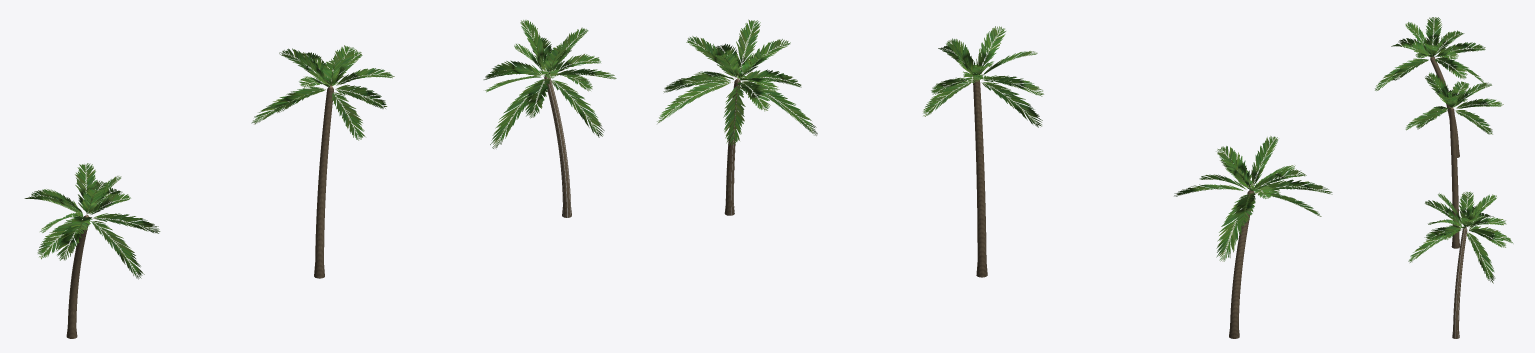
File: palm.gltf
3 views of the same model, side by side, from view 1: azimuth 30°, elevation 25°; view 2: azimuth 150°, elevation 25°; view 3: azimuth 270°, elevation 25° (orthographic). The views are drawn at different scales.
Visible parts, largest first — view 1: Palm3_LOD0, Palm2_LOD0, Palm1_LOD0; view 2: Palm3_LOD0, Palm1_LOD0, Palm2_LOD0; view 3: Palm3_LOD0, Palm1_LOD0, Palm2_LOD0, Palm3_COL.
Boxes of the visible parts, x1=… form: Palm3_LOD0: x1=483, y1=20, x2=616, y2=217; Palm2_LOD0: x1=251, y1=45, x2=394, y2=278; Palm1_LOD0: x1=24, y1=163, x2=160, y2=338; Palm3_LOD0: x1=657, y1=19, x2=817, y2=215; Palm1_LOD0: x1=1174, y1=136, x2=1332, y2=338; Palm2_LOD0: x1=923, y1=26, x2=1043, y2=277; Palm3_LOD0: x1=1408, y1=191, x2=1513, y2=338; Palm1_LOD0: x1=1375, y1=17, x2=1485, y2=157; Palm2_LOD0: x1=1405, y1=72, x2=1503, y2=248; Palm3_COL: x1=1452, y1=228, x2=1466, y2=338.
Size of what is drawn, in the model's own units: 37.36 by 13.57 by 10.64.
2 materials, 2 textured.
